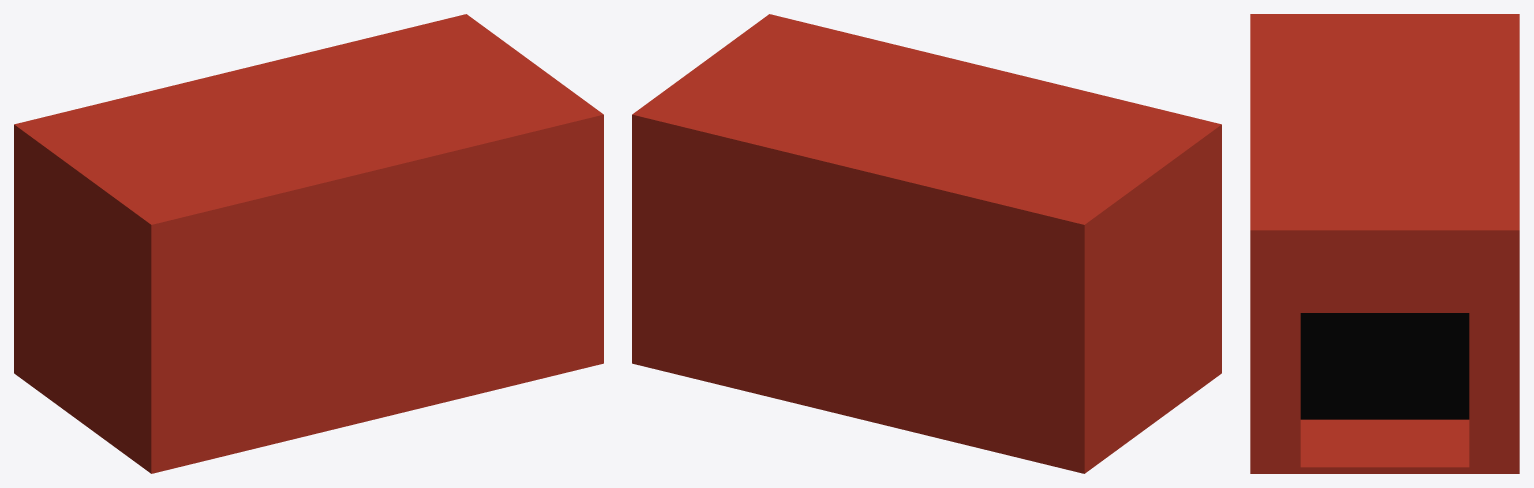
Rendered from PlaceholderGarage.fbx.
The picture shows the model from 3 angles, left to right: view 1: azimuth 30°, elevation 25°; view 2: azimuth 150°, elevation 25°; view 3: azimuth 270°, elevation 25°; orthographic projection. The views are drawn at different scales.
Parts seen in each view (by area): view 1: Cube; view 2: Cube; view 3: Cube.
Boxes of the visible parts, x1,y1,x2,y2 form: Cube: (14, 14, 603, 473); Cube: (632, 14, 1221, 473); Cube: (1250, 14, 1519, 473).
Bounding box in the file's own units: 35.91 × 18.89 × 18.89.
1 material, 1 textured.
